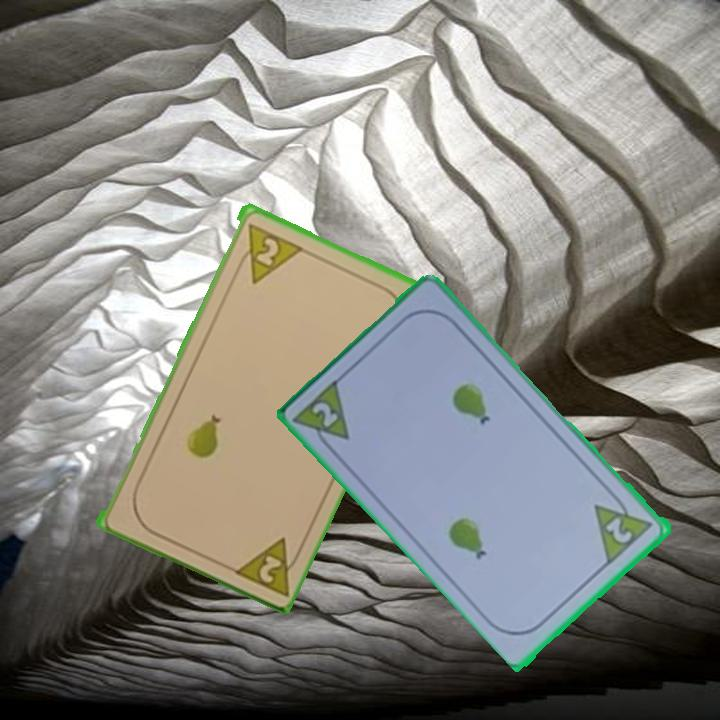2p: (227, 532, 306, 599), (291, 374, 354, 458), (591, 487, 657, 567), (232, 219, 303, 286)
